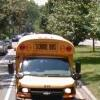Bus: (11, 29, 81, 100)
